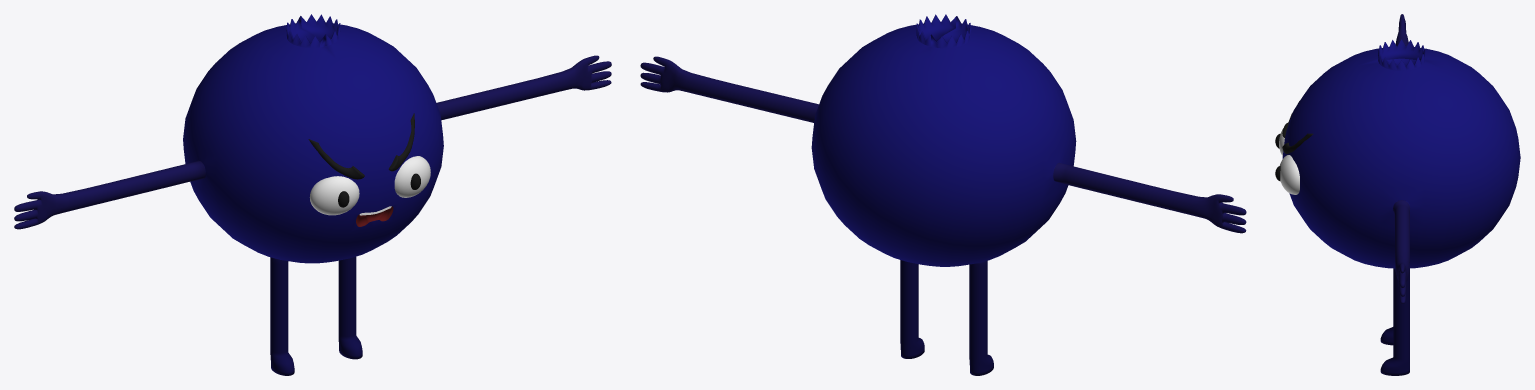
File: blueberry_norig.fbx
3 renders of one model, left to right at view 1: azimuth 30°, elevation 25°; view 2: azimuth 150°, elevation 25°; view 3: azimuth 270°, elevation 25°, orthographic. The views are drawn at different scales.
Parts seen in each view (by area): view 1: Blueberry; view 2: Blueberry; view 3: Blueberry.
Part boxes in pixels (left/top/right/bottom): Blueberry: left=14, top=14, right=611, bottom=375; Blueberry: left=640, top=14, right=1246, bottom=375; Blueberry: left=1275, top=14, right=1520, bottom=375.
Size of the model in its own units: 383 by 205 by 148.
